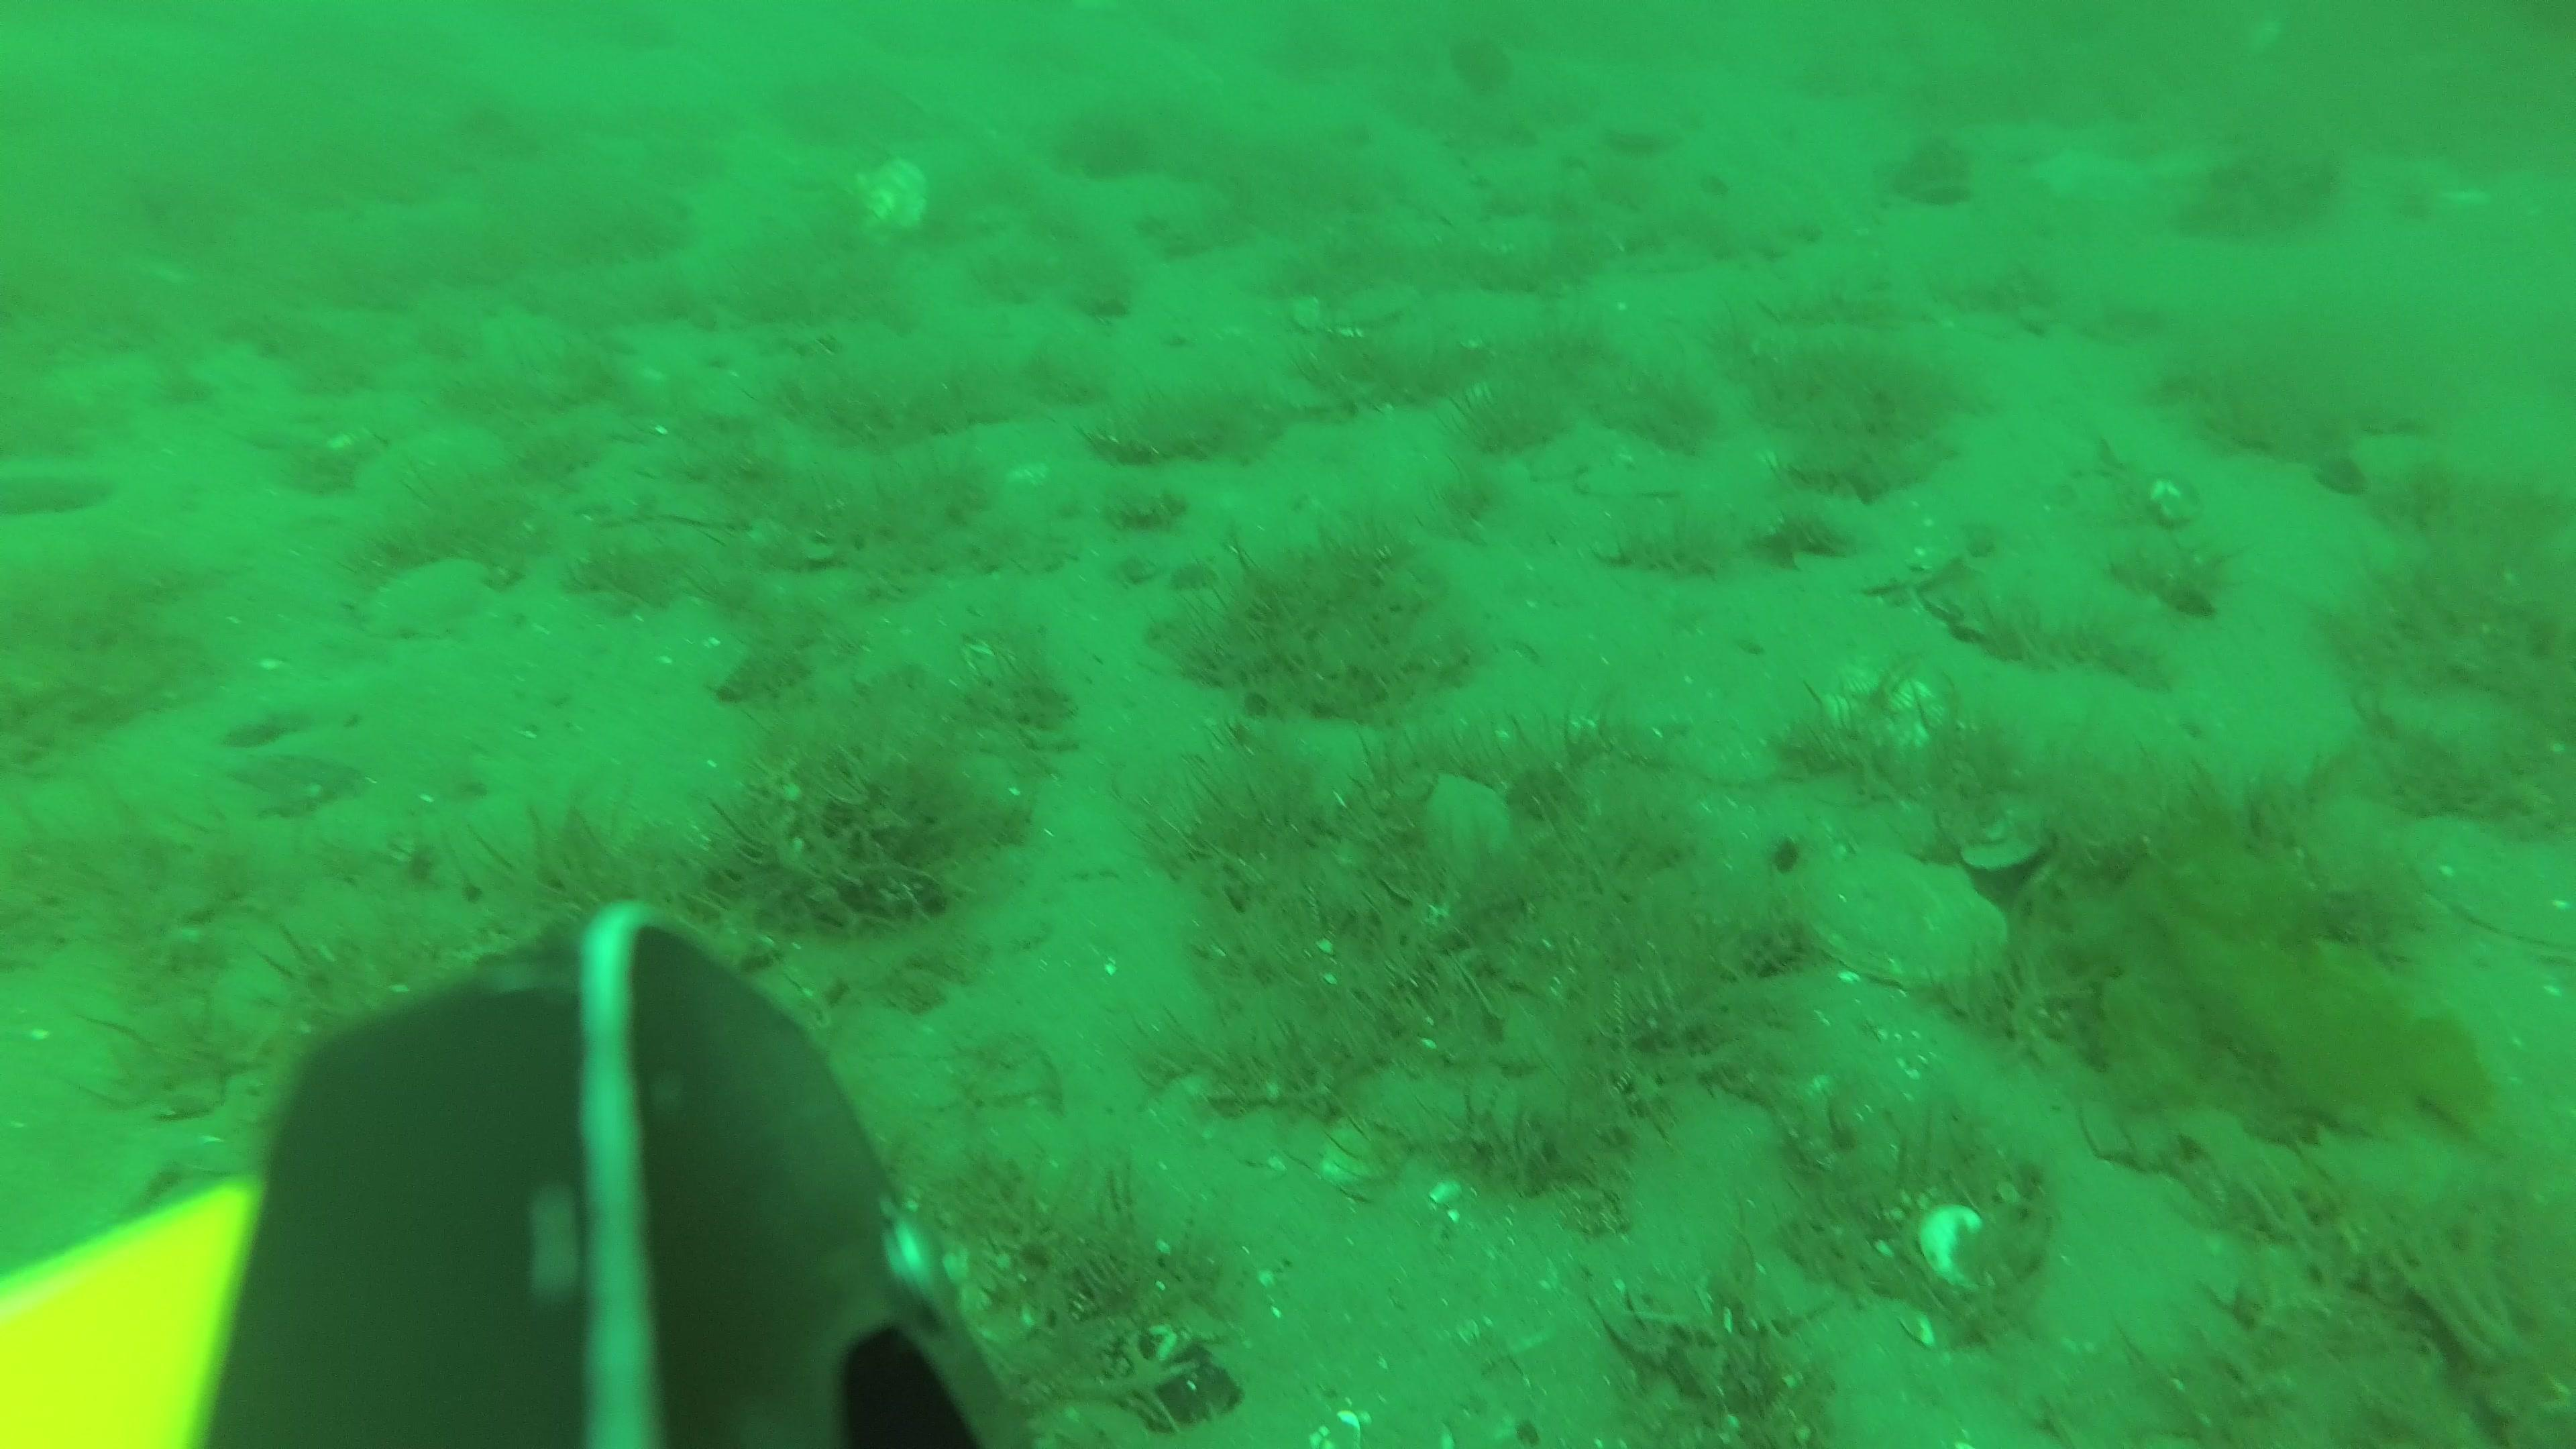scallop: (1812, 840, 2006, 985), (2408, 816, 2576, 962), (1373, 771, 1513, 908), (1815, 663, 1946, 763), (370, 561, 492, 635), (840, 152, 927, 248)
